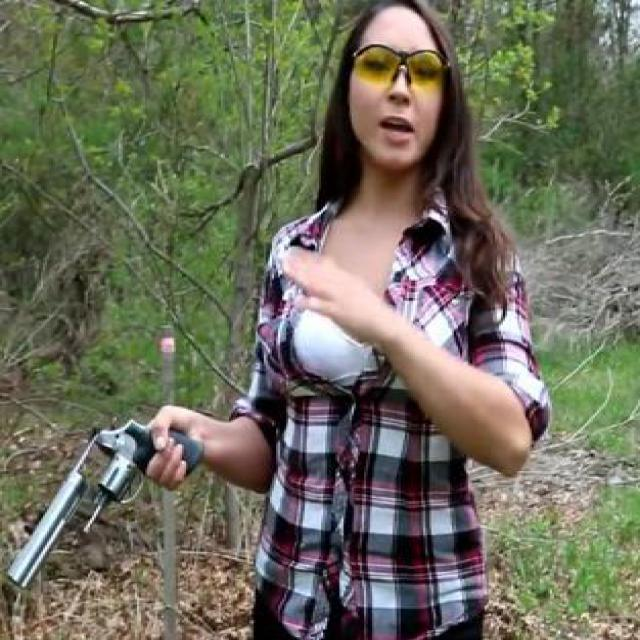gun: (4, 408, 203, 586)
